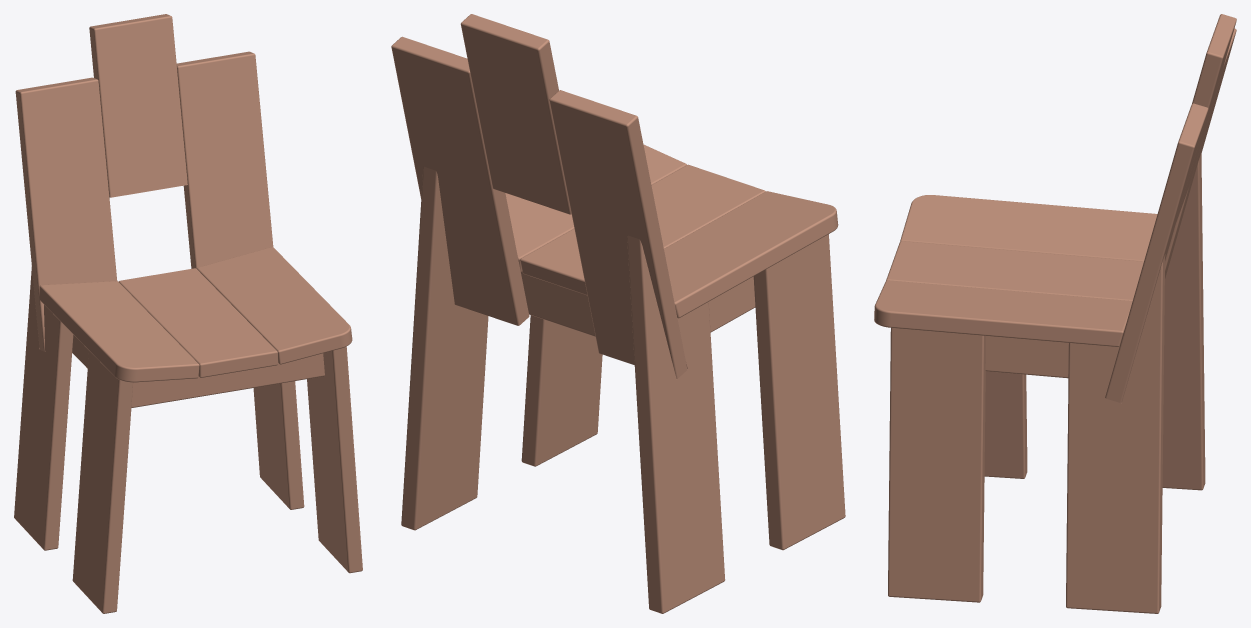
File: peachlaq.glb
The picture shows the model from 3 angles, left to right: view 1: azimuth 30°, elevation 25°; view 2: azimuth 150°, elevation 25°; view 3: azimuth 270°, elevation 25°; orthographic projection. The views are drawn at different scales.
Visible parts, largest first — view 1: Brep.090, Brep.092, Brep.091, Brep.094, Brep.093, Brep.136, Brep.089, Brep.100, Brep.088, Brep.095, Brep.096; view 2: Brep.093, Brep.094, Brep.095, Brep.090, Brep.092, Brep.091, Brep.089, Brep.088, Brep.100, Brep.136, Brep.099, Brep.098; view 3: Brep.095, Brep.088, Brep.089, Brep.136, Brep.093, Brep.100, Brep.092, Brep.094, Brep.097, Brep.091, Brep.090.
Part boxes in pixels (bbox=[...]): Brep.090: bbox=[15, 77, 117, 351]; Brep.092: bbox=[176, 51, 273, 268]; Brep.091: bbox=[89, 14, 187, 197]; Brep.094: bbox=[72, 351, 133, 613]; Brep.093: bbox=[14, 266, 73, 550]; Brep.136: bbox=[197, 247, 352, 364]; Brep.089: bbox=[39, 281, 199, 382]; Brep.100: bbox=[118, 268, 277, 377]; Brep.088: bbox=[307, 346, 362, 573]; Brep.095: bbox=[253, 381, 304, 509]; Brep.096: bbox=[131, 353, 324, 407]; Brep.093: bbox=[627, 235, 725, 613]; Brep.094: bbox=[753, 234, 845, 550]; Brep.095: bbox=[401, 166, 488, 530]; Brep.090: bbox=[549, 90, 687, 378]; Brep.092: bbox=[391, 36, 529, 325]; Brep.091: bbox=[460, 14, 571, 214]; Brep.089: bbox=[664, 191, 838, 318]; Brep.088: bbox=[521, 315, 602, 466]; Brep.100: bbox=[520, 164, 765, 295]; Brep.136: bbox=[505, 144, 686, 272]; Brep.099: bbox=[521, 271, 595, 336]; Brep.098: bbox=[708, 276, 755, 332]; Brep.095: bbox=[1066, 254, 1165, 613]; Brep.088: bbox=[888, 328, 985, 602]; Brep.089: bbox=[900, 195, 1157, 261]; Brep.136: bbox=[874, 280, 1132, 346]; Brep.093: bbox=[1162, 153, 1205, 490]; Brep.100: bbox=[886, 241, 1143, 300]; Brep.092: bbox=[1105, 103, 1208, 402]; Brep.094: bbox=[984, 371, 1027, 478]; Brep.097: bbox=[985, 336, 1068, 378]; Brep.091: bbox=[1176, 14, 1236, 221]; Brep.090: bbox=[1165, 28, 1236, 278].
Bounding box in the file's own units: 0.5385 × 0.8791 × 0.5575.
